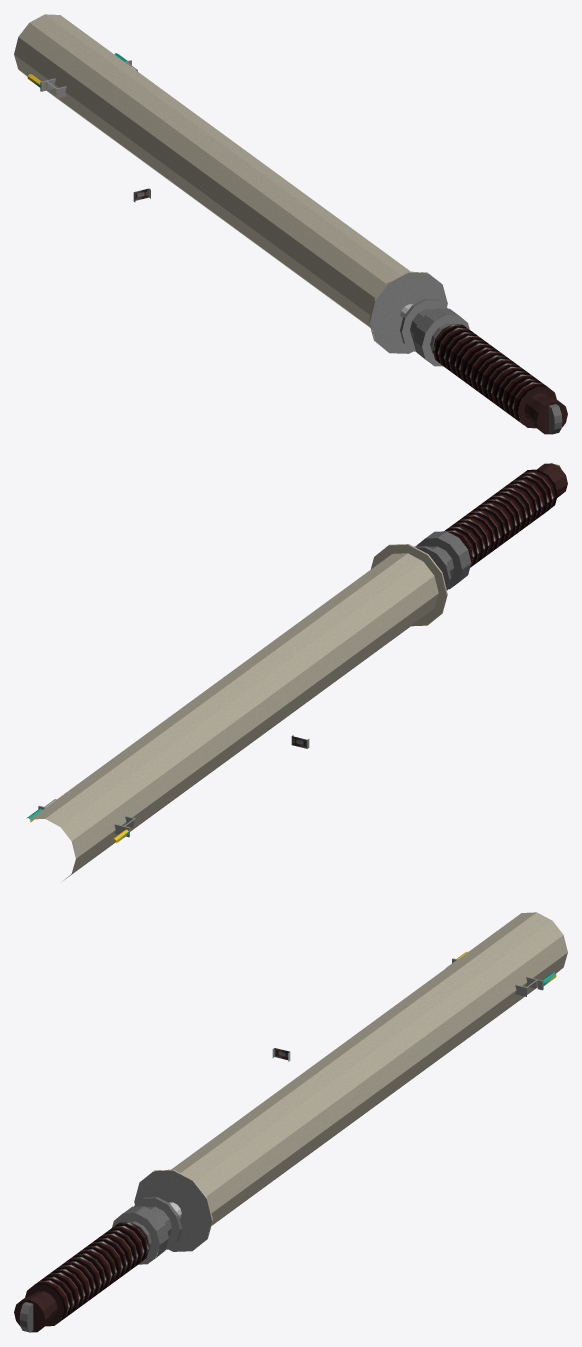
The model's file is blq-11m00000000680585-geode.glb.
The picture shows the model from 3 angles, top to bottom: view 1: azimuth 30°, elevation 25°; view 2: azimuth 150°, elevation 25°; view 3: azimuth 330°, elevation 25°; orthographic projection.
Parts seen in each view (by area): view 1: Node; view 2: Node; view 3: Node.
Boxes of the visible parts, left/top/right/bottom form: Node: left=14, top=14, right=567, bottom=434; Node: left=26, top=463, right=567, bottom=880; Node: left=14, top=912, right=567, bottom=1332.
Size of the model in its own units: 0.6733 by 0.3936 by 4.5.
Materials: 8 (8 with a texture image).
